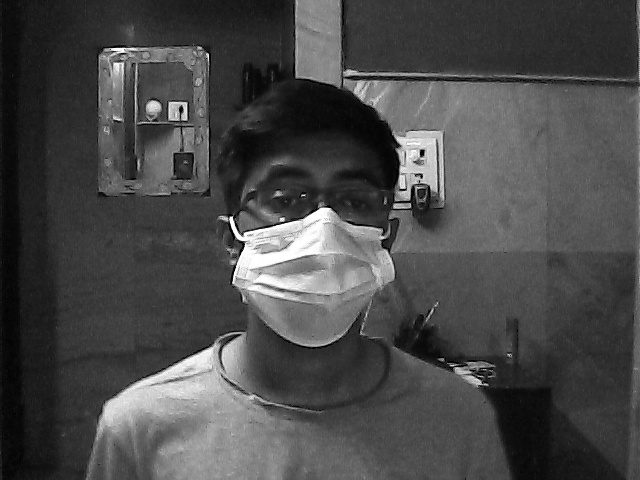mask: (220, 175, 406, 355)
